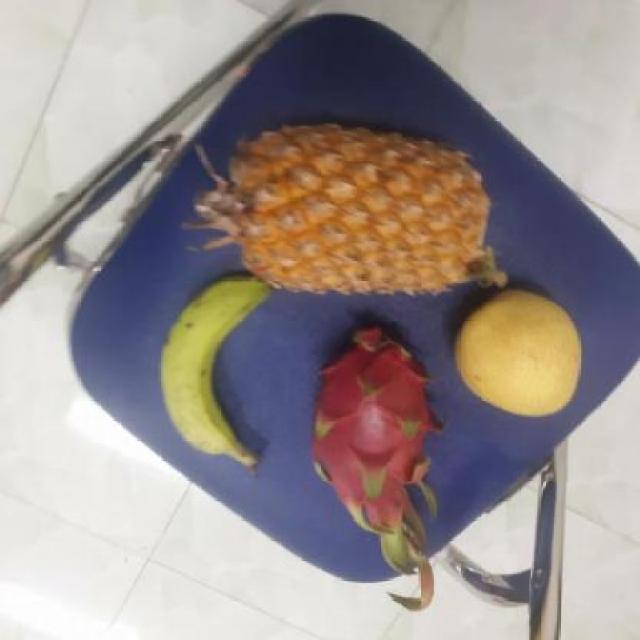banana: (150, 278, 275, 467)
dragon fruit: (308, 333, 440, 529)
pear: (448, 292, 582, 414)
pineapple: (193, 118, 492, 292)
